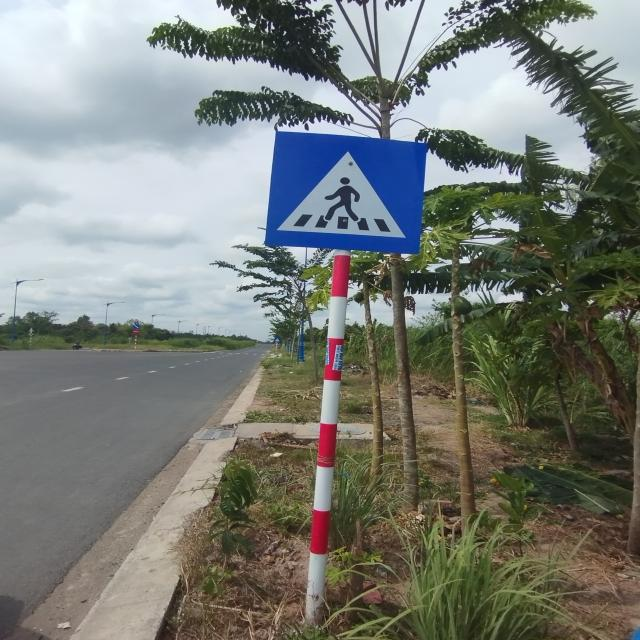Giao_Nhau_Duong_Uu_Tien: (266, 131, 427, 255)
